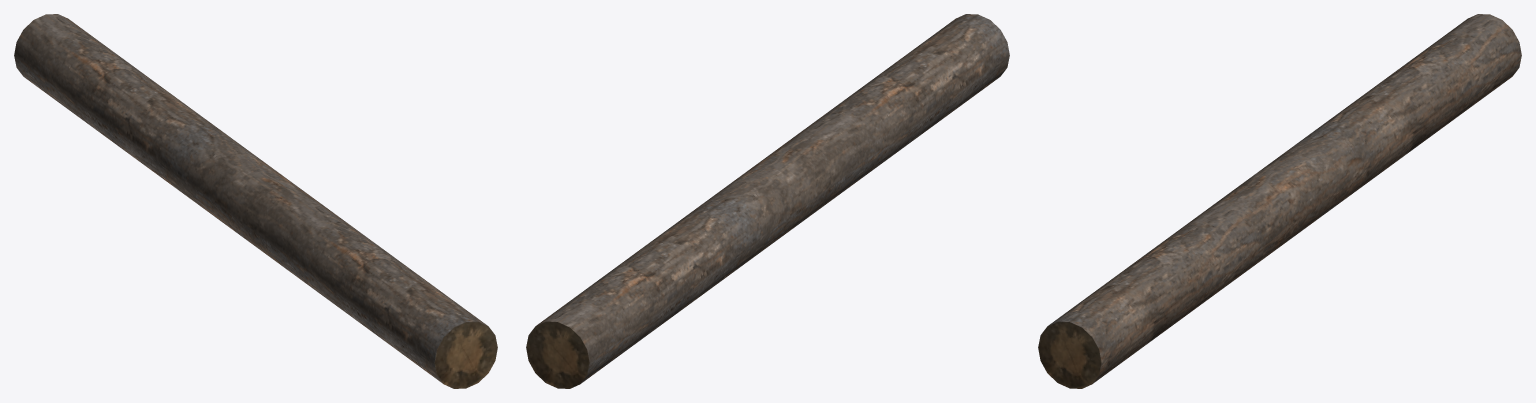
File: SupportWoodC_S.glb
3 views of the same model, side by side, from view 1: azimuth 30°, elevation 25°; view 2: azimuth 150°, elevation 25°; view 3: azimuth 330°, elevation 25° (orthographic).
Visible parts, largest first — view 1: SupportWoodC_S; view 2: SupportWoodC_S; view 3: SupportWoodC_S.
Part boxes in pixels (box(x1,y1,x2,y2)): SupportWoodC_S: box(14, 14, 497, 388); SupportWoodC_S: box(526, 14, 1009, 388); SupportWoodC_S: box(1038, 14, 1521, 388).
Size of the model in its own units: 0.1 by 0.1 by 1.15.
Materials: 1 (1 with a texture image).
